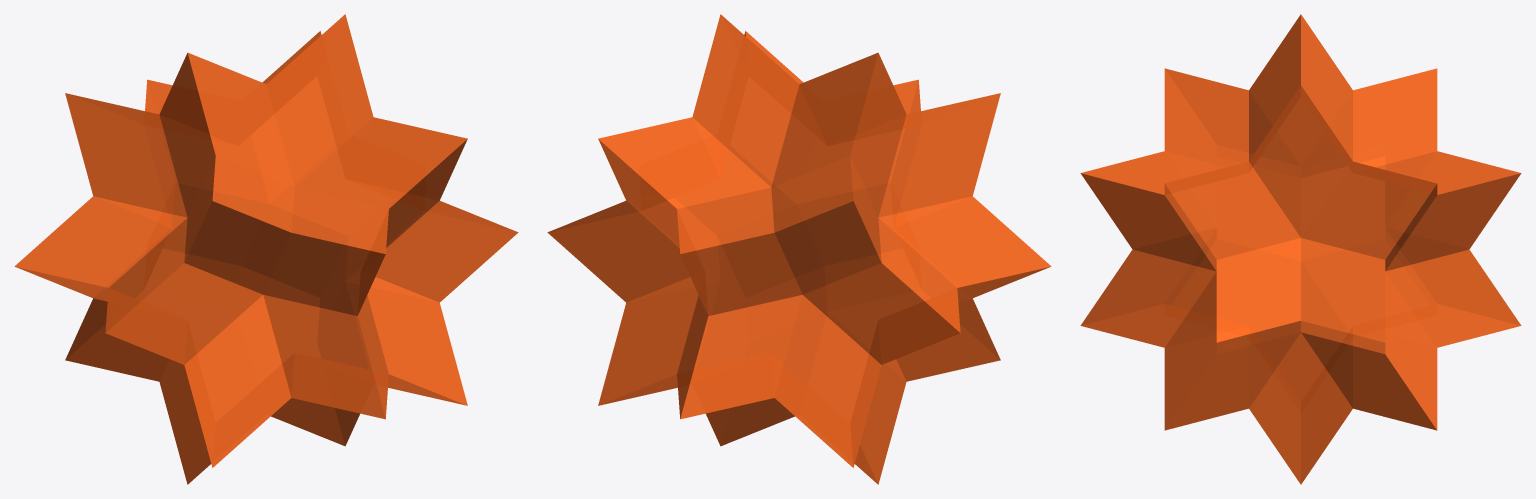
File: RhombicHexecontahedron.obj
3 views of the same model, side by side, from view 1: azimuth 30°, elevation 25°; view 2: azimuth 150°, elevation 25°; view 3: azimuth 270°, elevation 25° (orthographic). The views are drawn at different scales.
Bounding box in the file's own units: 4.45 × 4.45 × 4.45.
